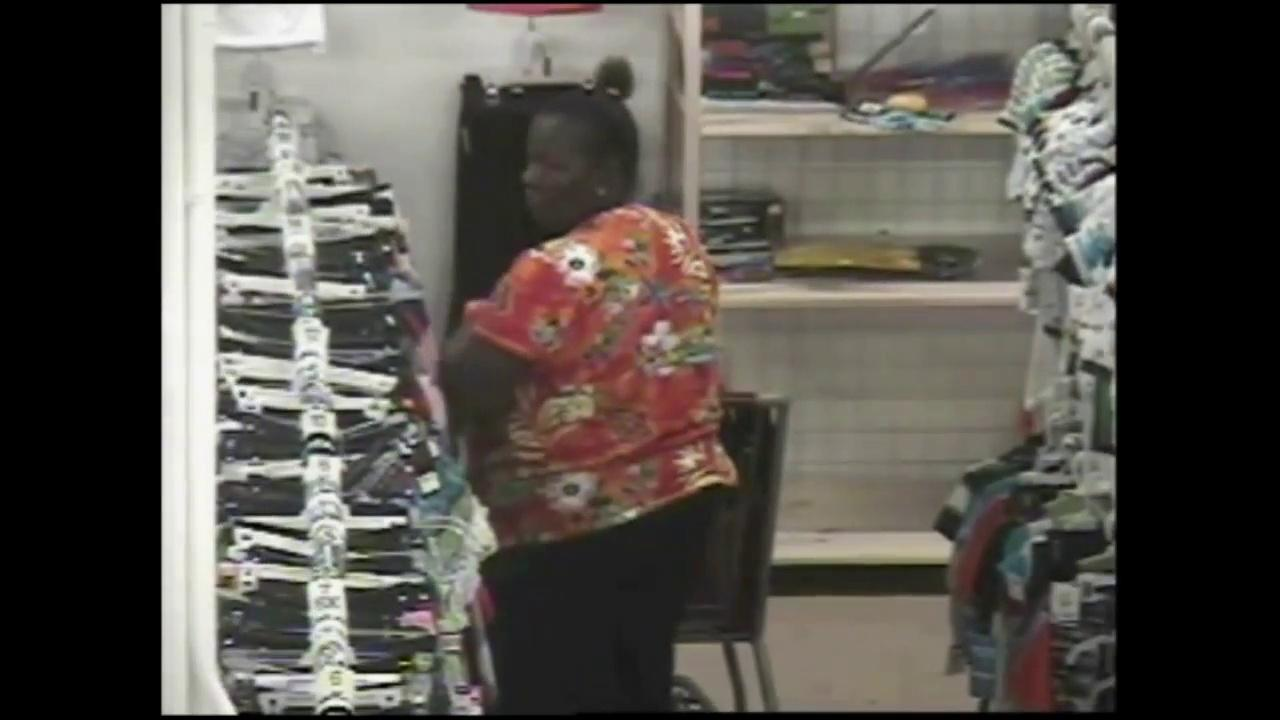Regular: (366, 21, 820, 720)
Shopping-Cart: (688, 385, 793, 654)
